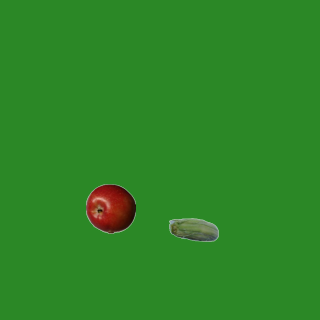Apple Braeburn: (85, 183, 135, 233)
Corn Husk: (168, 206, 218, 256)
